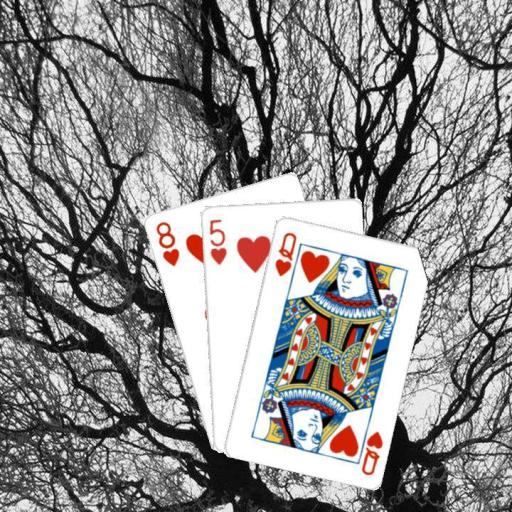5H: (206, 215, 228, 266)
8H: (152, 218, 181, 268)
QH: (353, 419, 384, 476), (271, 229, 298, 278)
